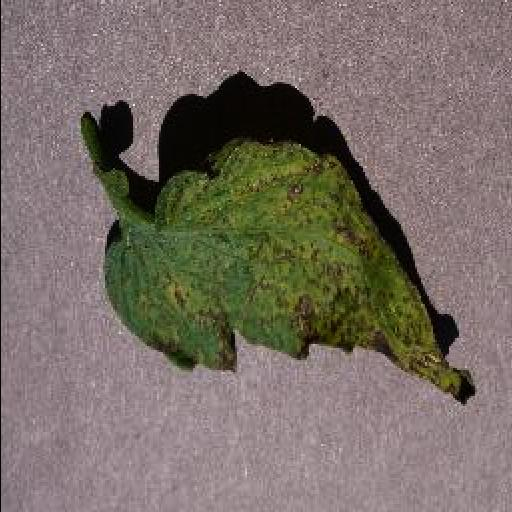disease_tomato: (99, 134, 477, 402)
